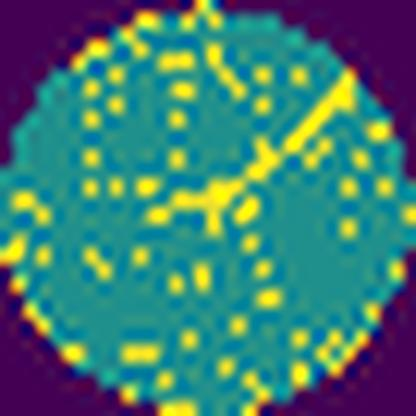Scratch: (145, 69, 360, 239)
